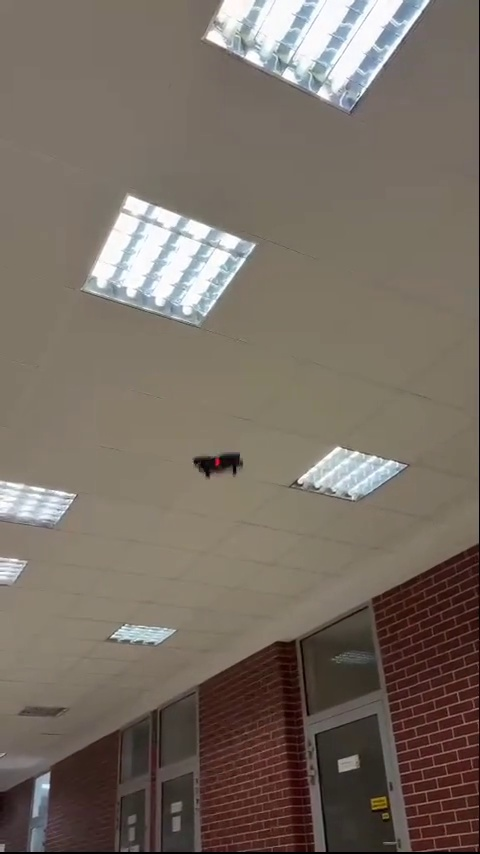drone: (191, 448, 245, 481)
